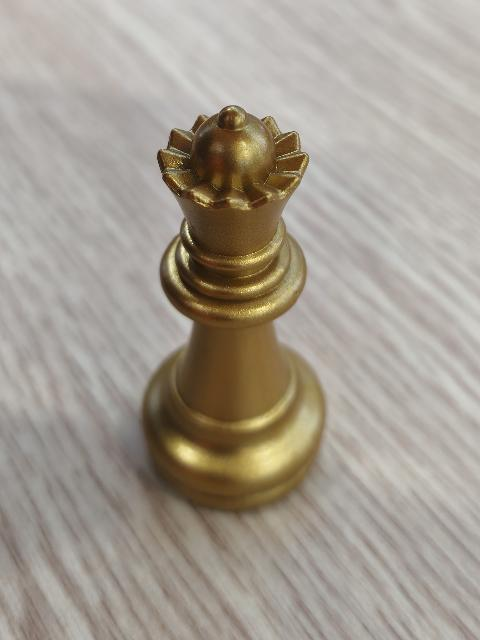black_queen: (143, 105, 324, 513)
